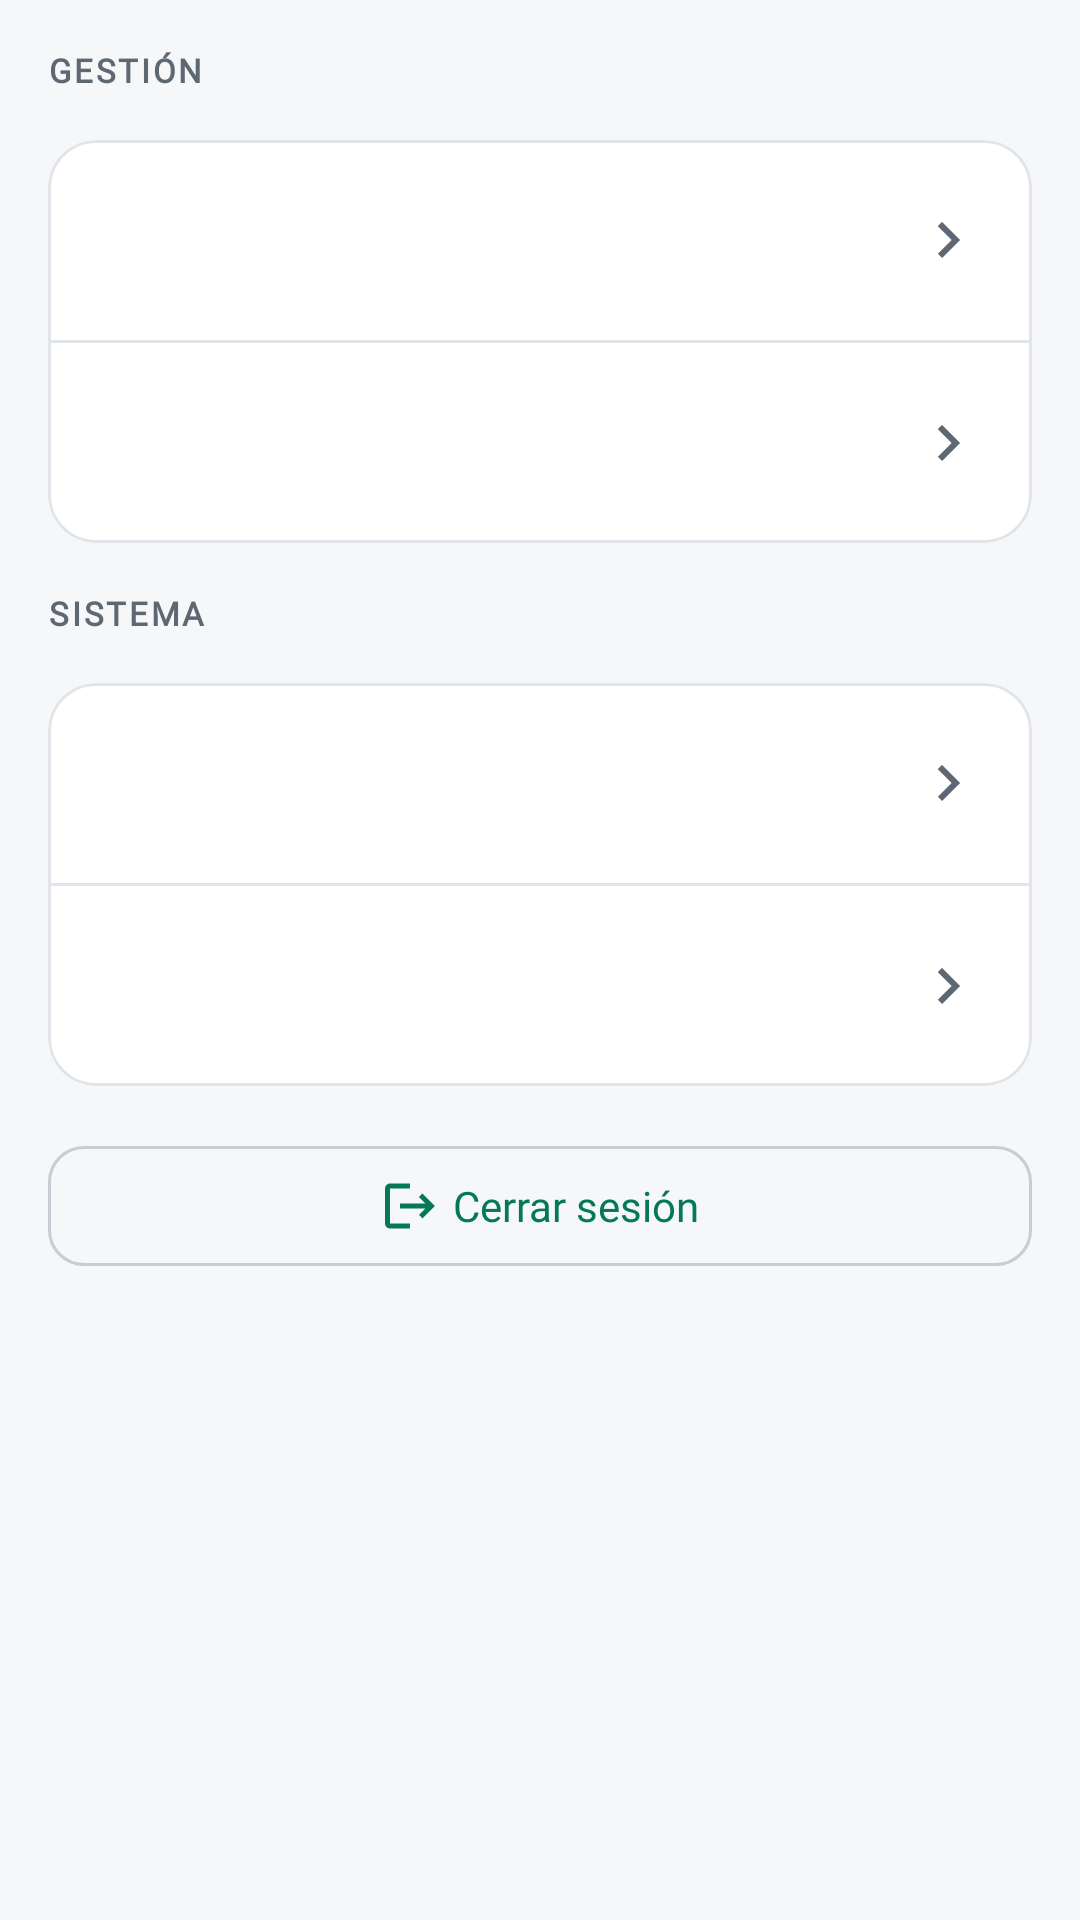

Icons on this 1080*1920 Android screen, each with its box as (x1, y1, x2, y2):
chevron right: (938, 222, 960, 258), (938, 425, 960, 461), (938, 765, 960, 801), (938, 968, 960, 1004)
